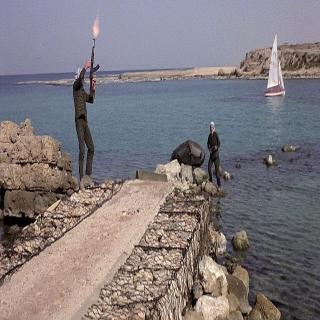gun: (83, 34, 103, 103)
